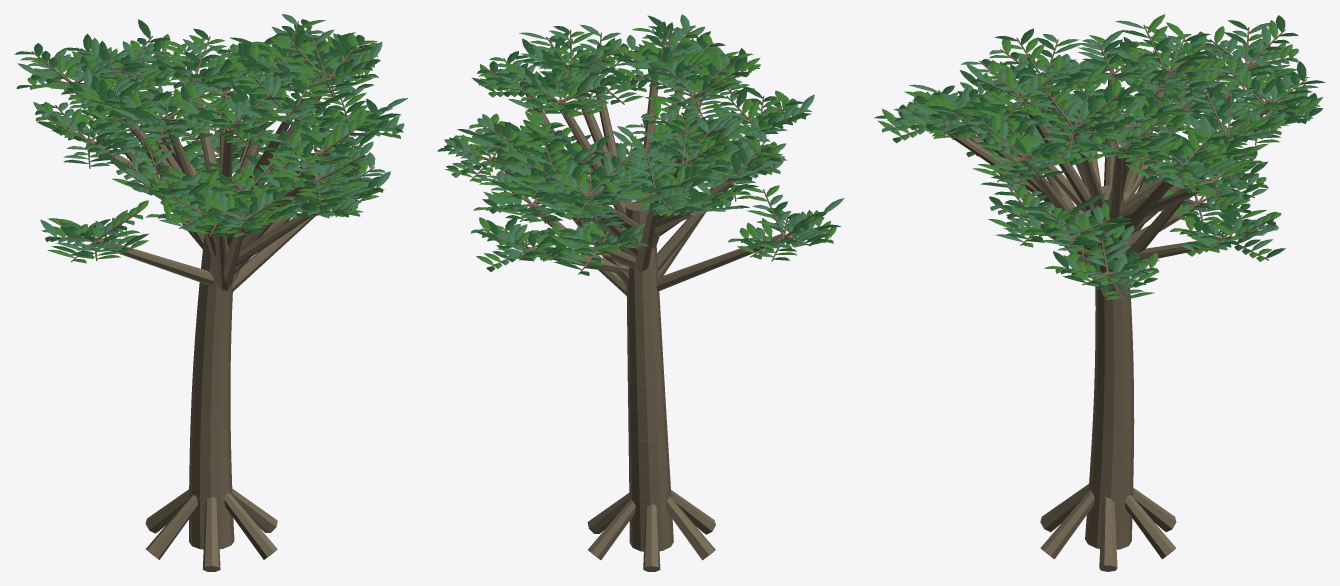
The model's file is jungle_canopy_tree.glb.
3 renders of one model, left to right at view 1: azimuth 30°, elevation 25°; view 2: azimuth 150°, elevation 25°; view 3: azimuth 270°, elevation 25°, orthographic. The views are drawn at different scales.
Visible parts, largest first — view 1: jungle_canopy_tree; view 2: jungle_canopy_tree; view 3: jungle_canopy_tree.
Boxes of the visible parts, bbox=[...] form: jungle_canopy_tree: bbox=[14, 14, 408, 571]; jungle_canopy_tree: bbox=[437, 14, 844, 571]; jungle_canopy_tree: bbox=[874, 14, 1325, 571].
Bounding box in the file's own units: 5.7 × 7.54 × 6.18.
